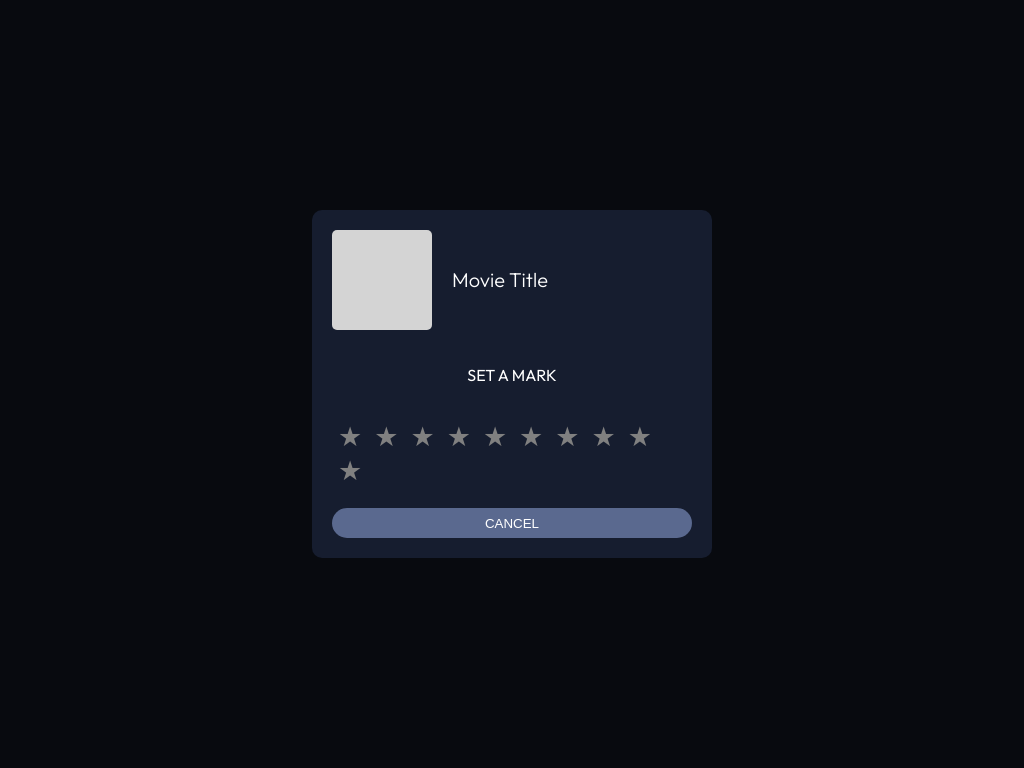
it: RatingPopup › should render the popup and allow rating selection
Expected: the text "Movie Title" is shown, 452,268 -> 548,292
Hover over the 4th button "★".
mouse_move(459, 437)  # box 441,420 -> 477,454
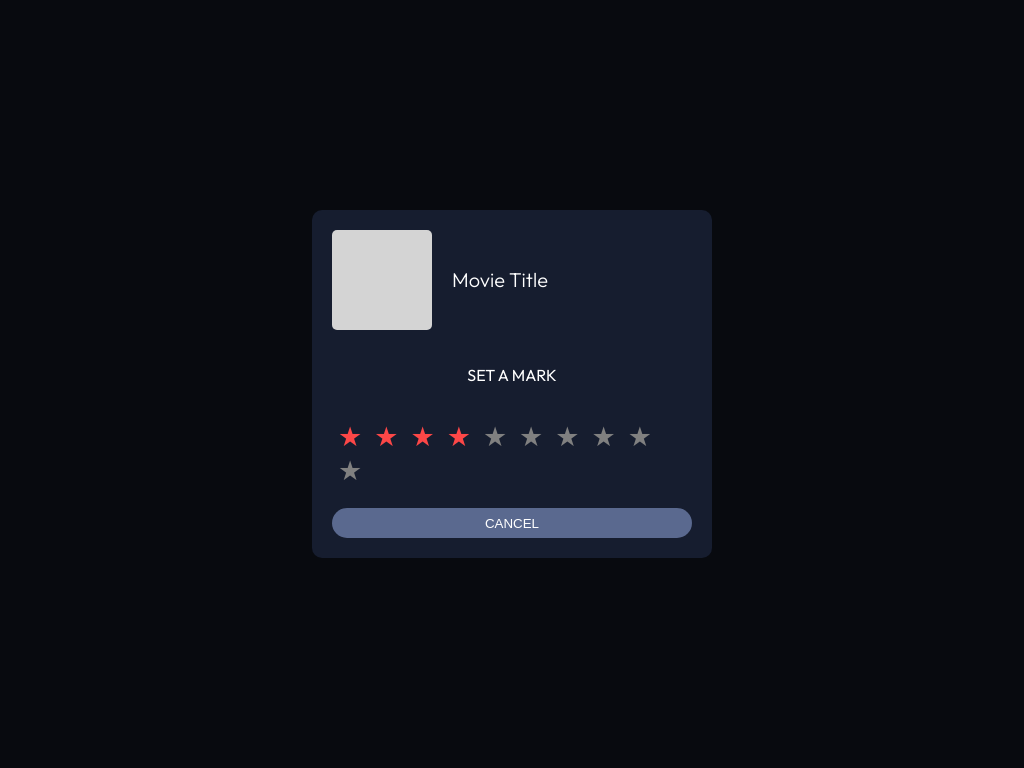
Expected: the 4th button "★" has class "star-on"
Click the 4th button "★".
click(459, 437)  # box 441,420 -> 477,454
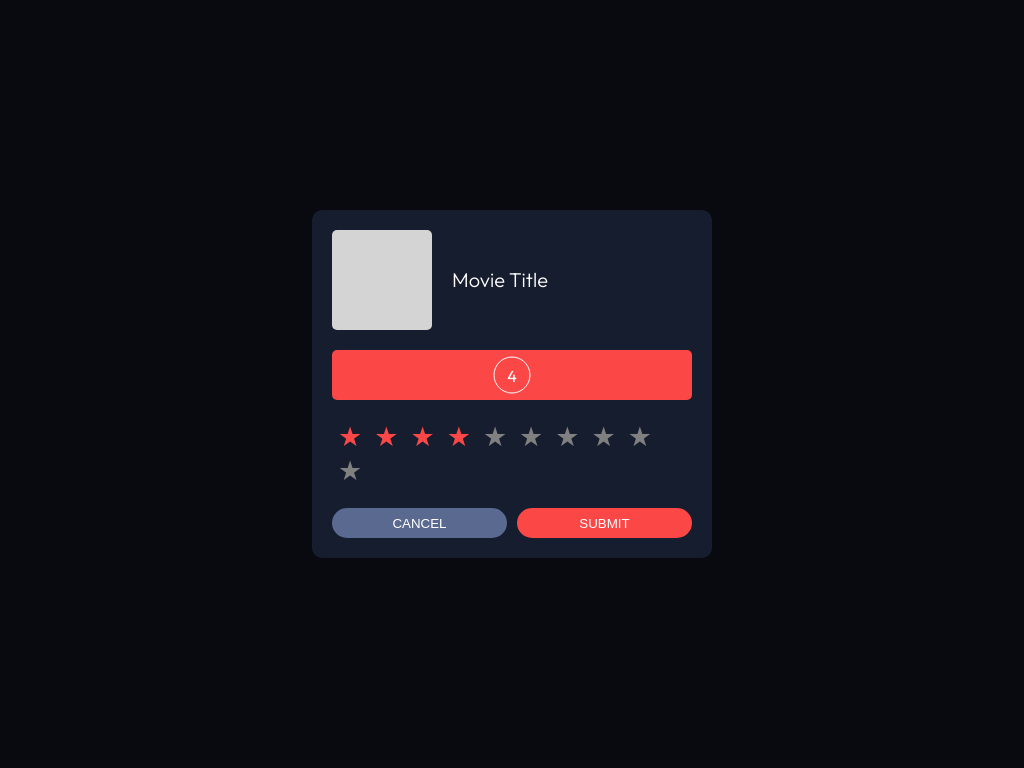
Expected: the text "4" is shown, 494,356 -> 530,394
